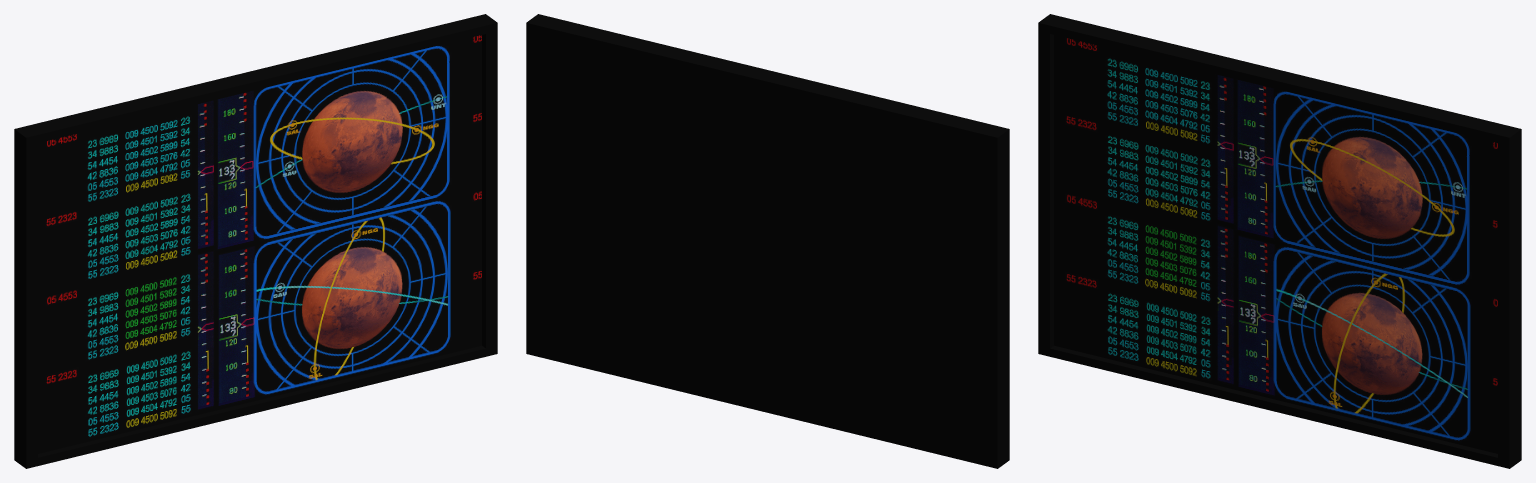
File: SM_decor_screen.fbx
3 renders of one model, left to right at view 1: azimuth 30°, elevation 25°; view 2: azimuth 150°, elevation 25°; view 3: azimuth 330°, elevation 25°, orthographic.
Visible parts, largest first — view 1: pCube1; view 2: pCube1; view 3: pCube1.
Boxes of the visible parts, left/top/right/bottom form: pCube1: left=14, top=14, right=497, bottom=468; pCube1: left=526, top=14, right=1009, bottom=468; pCube1: left=1038, top=14, right=1521, bottom=468.
Size of the model in its own units: 11.58 by 7.77 by 0.5111.
